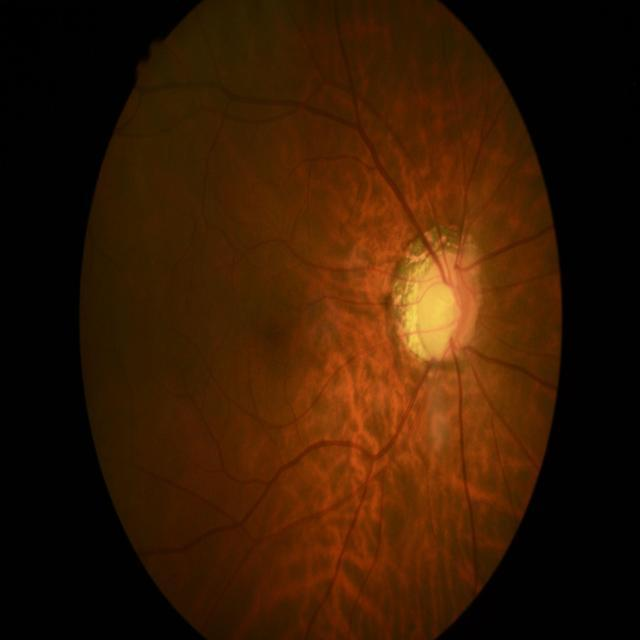cup: (424, 266, 462, 358)
disk: (418, 252, 478, 366)
